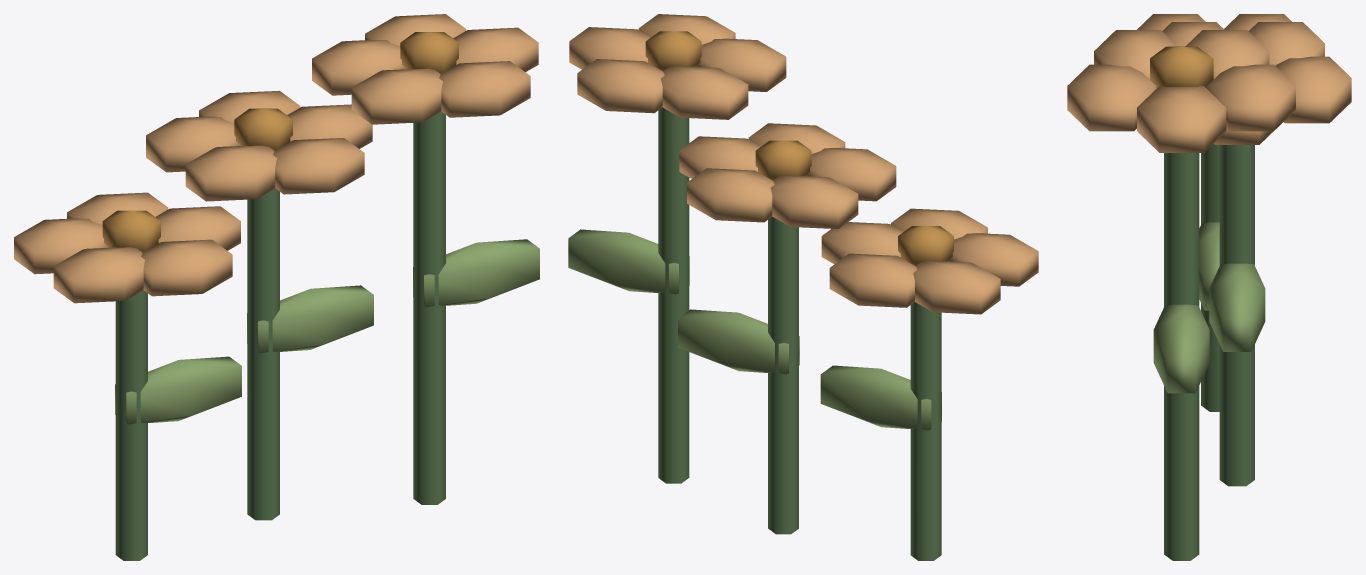
File: flower.glb
3 renders of one model, left to right at view 1: azimuth 30°, elevation 25°; view 2: azimuth 150°, elevation 25°; view 3: azimuth 270°, elevation 25°, orthographic. The views are drawn at different scales.
Parts seen in each view (by area): view 1: flower_petal, flower_leaf, flower_leaf_light, flower_flower_centre; view 2: flower_petal, flower_leaf, flower_leaf_light, flower_flower_centre; view 3: flower_petal, flower_leaf, flower_leaf_light, flower_flower_centre.
Part boxes in pixels (x1,y1,x2,y2): flower_petal: (14, 14, 538, 303); flower_leaf: (115, 111, 445, 560); flower_leaf_light: (115, 239, 539, 424); flower_flower_centre: (102, 32, 458, 252); flower_petal: (569, 14, 1038, 314); flower_leaf: (658, 107, 941, 560); flower_leaf_light: (568, 229, 941, 430); flower_flower_centre: (645, 31, 953, 265); flower_petal: (1067, 14, 1351, 152); flower_leaf: (1164, 143, 1254, 560); flower_leaf_light: (1153, 222, 1265, 393); flower_flower_centre: (1150, 46, 1268, 86).
Bounding box in the file's own units: 0.4037 × 0.381 × 0.1936.
